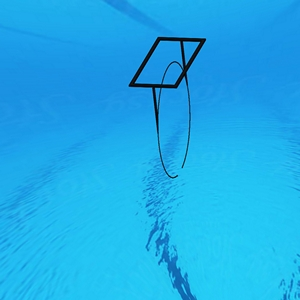circle: (127, 35, 228, 181)
